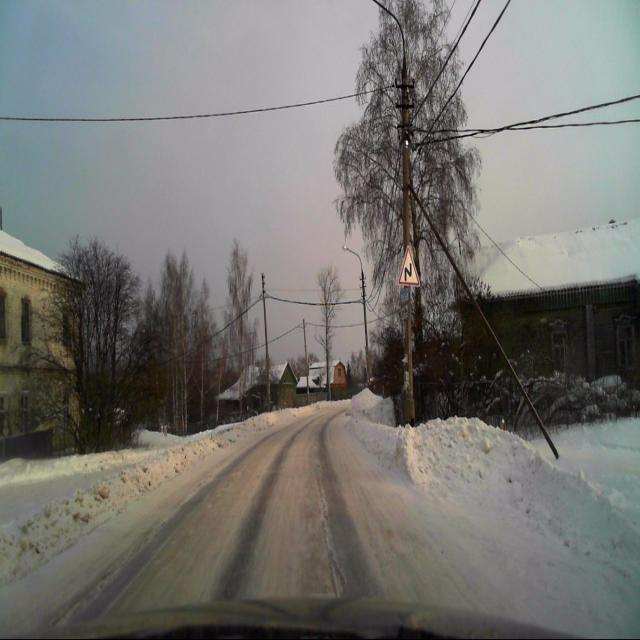road sign: (399, 244, 420, 286)
